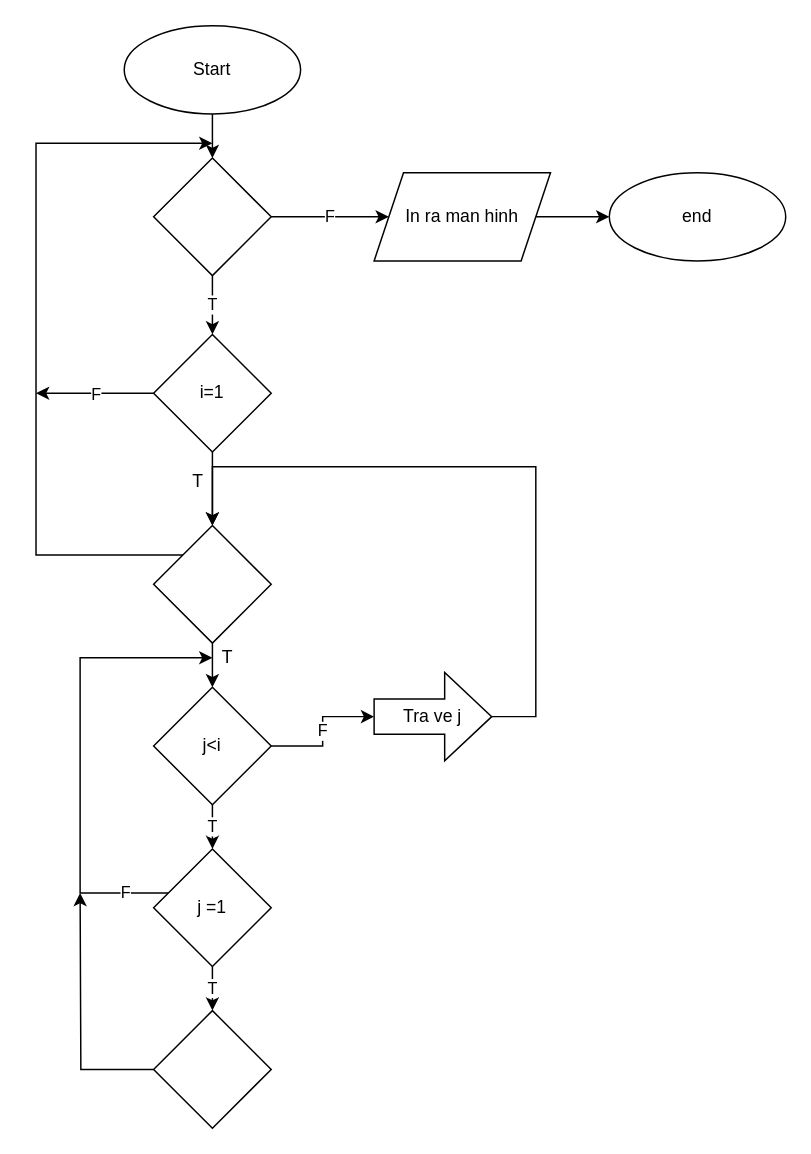
Some shapes in this 811 by 1154 pixel diagram are drawn without their labels. Here are the shapes that lost their labels. From the top down, the box of each, then its label:
(152, 157, 271, 276): i<5
(152, 524, 271, 643): i = i + i1
(152, 1009, 271, 1128): j++
